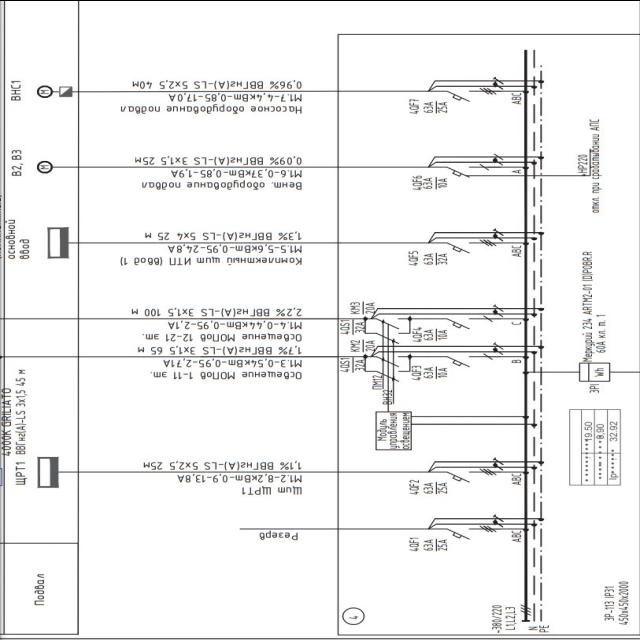-: (582, 249, 612, 361), (600, 580, 630, 628), (376, 412, 411, 448), (422, 536, 450, 554), (423, 326, 451, 342), (424, 364, 452, 380), (422, 97, 450, 113), (422, 176, 449, 192), (422, 251, 449, 267), (422, 481, 450, 496), (380, 388, 394, 406), (364, 336, 378, 352), (370, 373, 382, 391), (353, 318, 368, 332), (363, 299, 377, 314), (354, 357, 366, 371)
KM: (379, 354, 402, 366), (380, 316, 402, 328)
QF: (444, 313, 494, 331), (447, 238, 498, 254), (447, 85, 498, 101), (446, 524, 496, 540), (446, 467, 496, 482), (447, 352, 493, 368), (446, 162, 490, 178)
QS: (374, 368, 402, 381), (374, 330, 402, 342)
WH: (578, 362, 612, 382)
